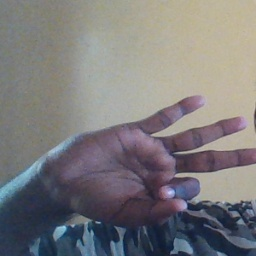K: (38, 94, 256, 226)
